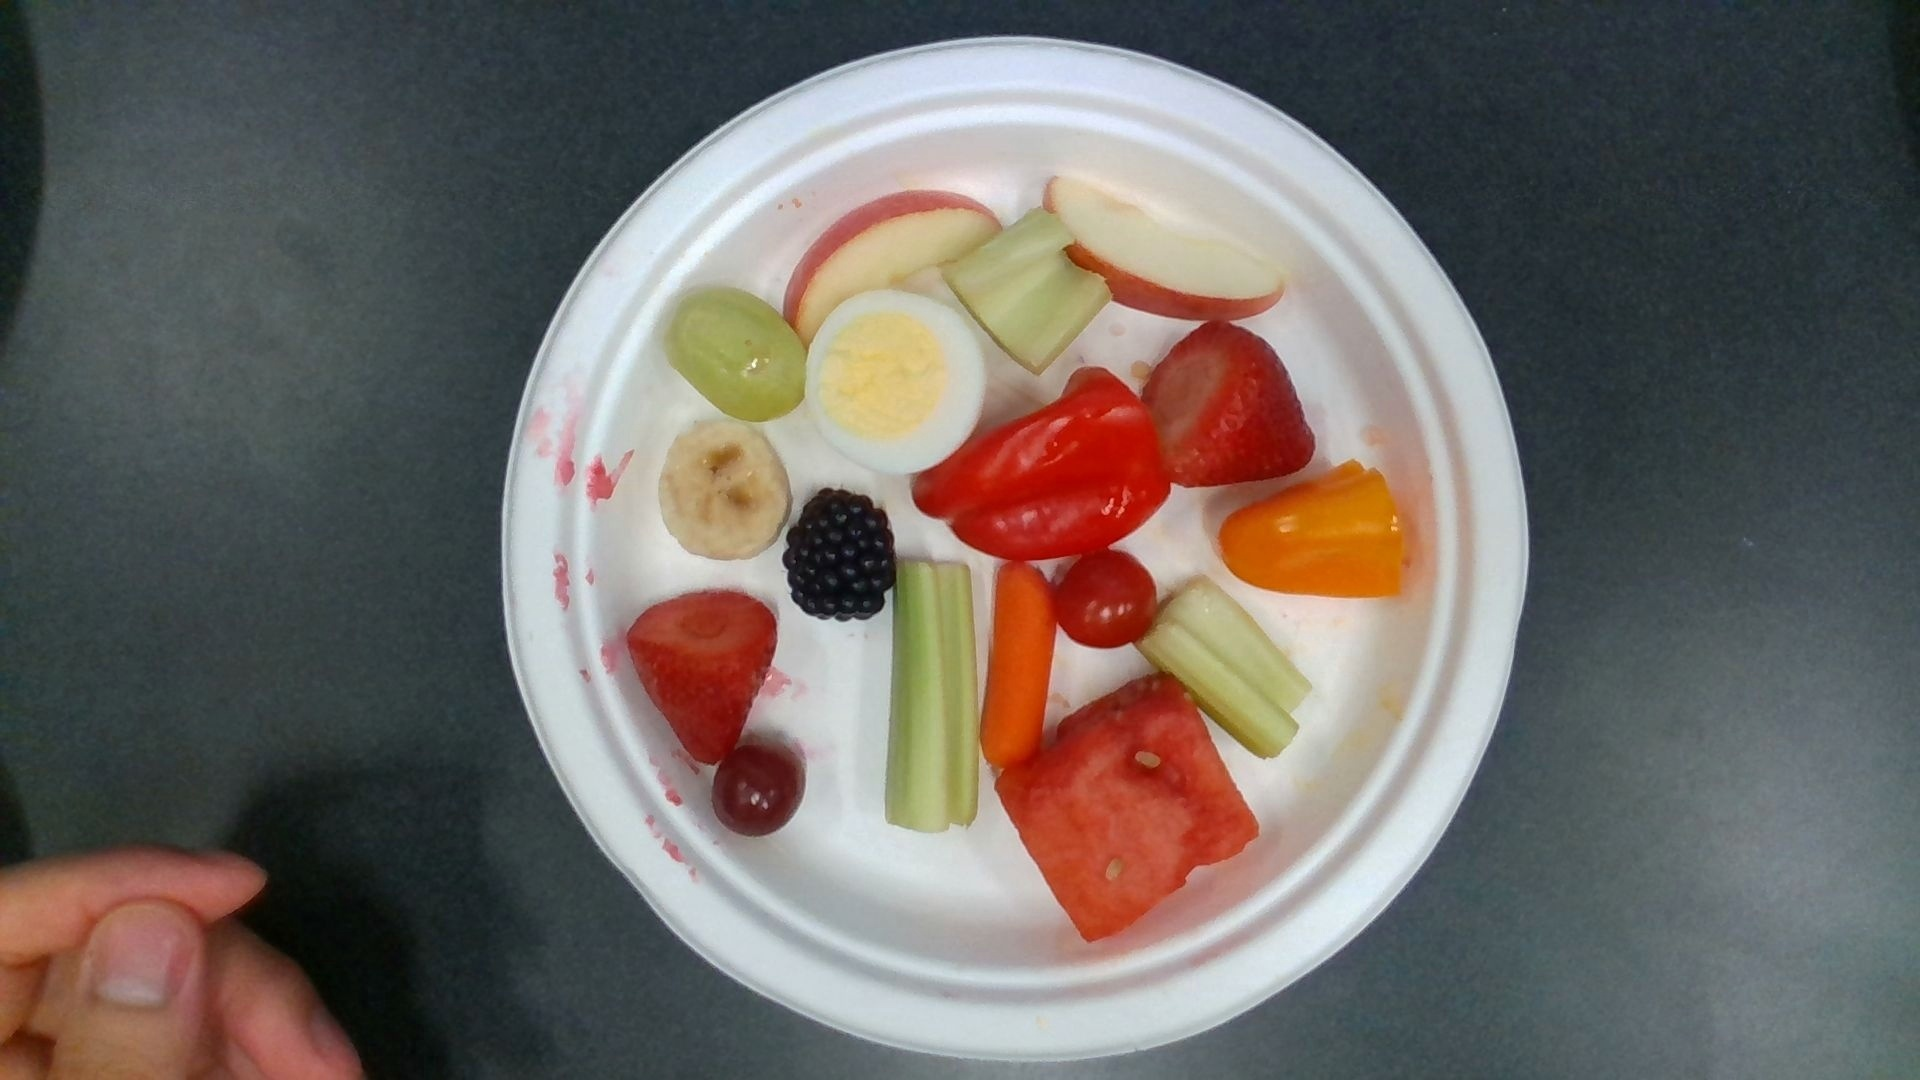apple: (787, 191, 1002, 342), (1047, 178, 1284, 313)
banana: (659, 419, 789, 560)
bell_pepper: (914, 367, 1168, 555), (1218, 460, 1410, 600)
blackberry: (787, 491, 894, 622)
carrot: (980, 560, 1052, 766)
celery: (1139, 576, 1307, 752), (945, 206, 1112, 368), (885, 555, 982, 825)
cherry_tomato: (1055, 550, 1159, 644)
egg: (807, 290, 984, 471)
grape_green: (670, 290, 808, 419)
grape_purple: (712, 752, 800, 836)
melon: (997, 678, 1254, 938)
strawberry: (1145, 320, 1309, 485), (632, 593, 777, 761)
